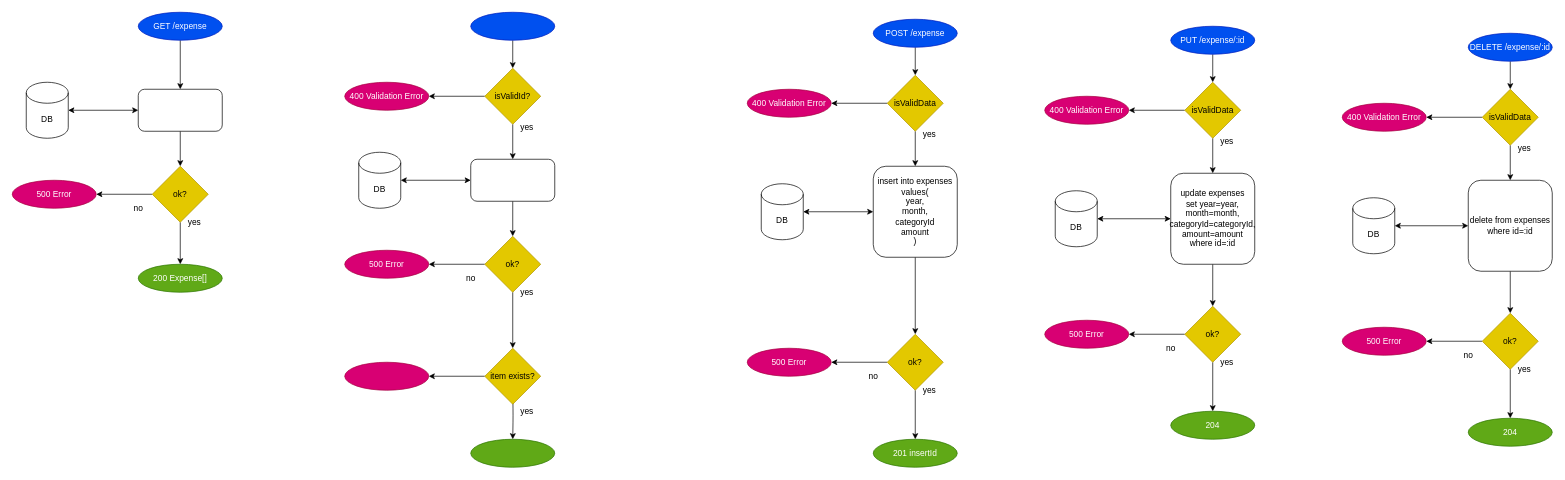
The diagram is 1565 pixels wide and 480 high, and some of its shapes have lost their labels. The shapes that lost their labels are listed below. From the top down, each one's box as (x1, y1, x2, y2) in pixels, then its label:
(470, 12, 555, 40): GET /expense/:id
(138, 89, 222, 131): fetch expenses default sort id desc
(470, 159, 555, 201): select expense from expenses where id = :id
(344, 362, 429, 390): 404 Not Found
(470, 439, 555, 467): 200 Expense
